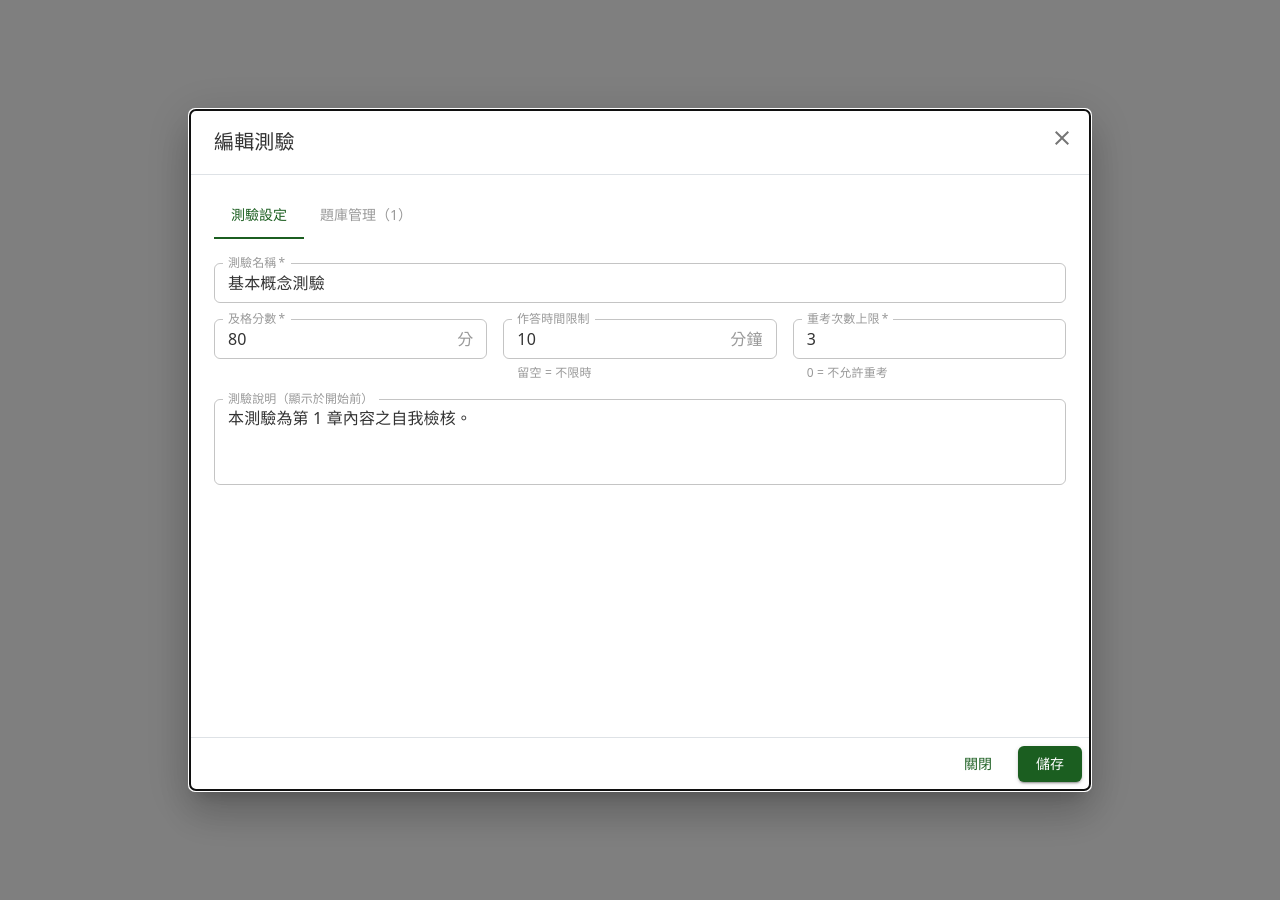
it: 測驗編輯視窗 › 題庫分頁顯示配分總和且未達 100 時不阻擋
Click the tab "題庫管理（1）". click: (366, 215)
box: [304,191,428,239]
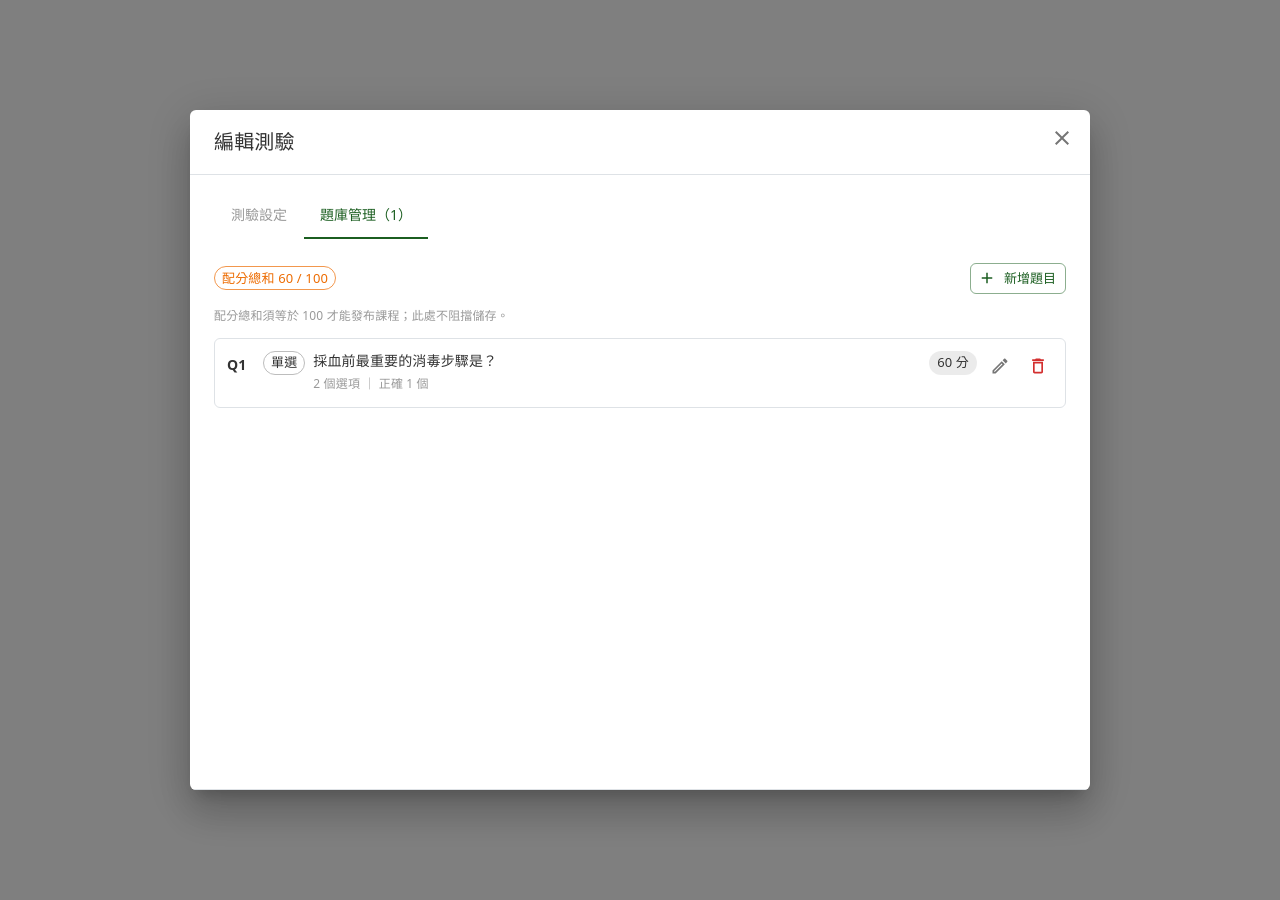
Result: the text "配分總和 60 / 100" is shown at [215,269,335,288]
Result: the text "配分總和須等於 100 才能發布課程；此處不阻擋儲存。" is shown at [214,307,509,324]
